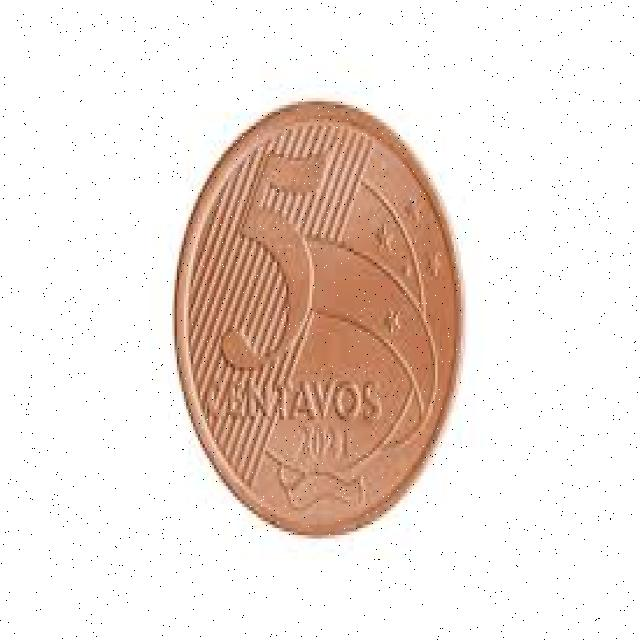5 cent: (174, 94, 459, 536)
